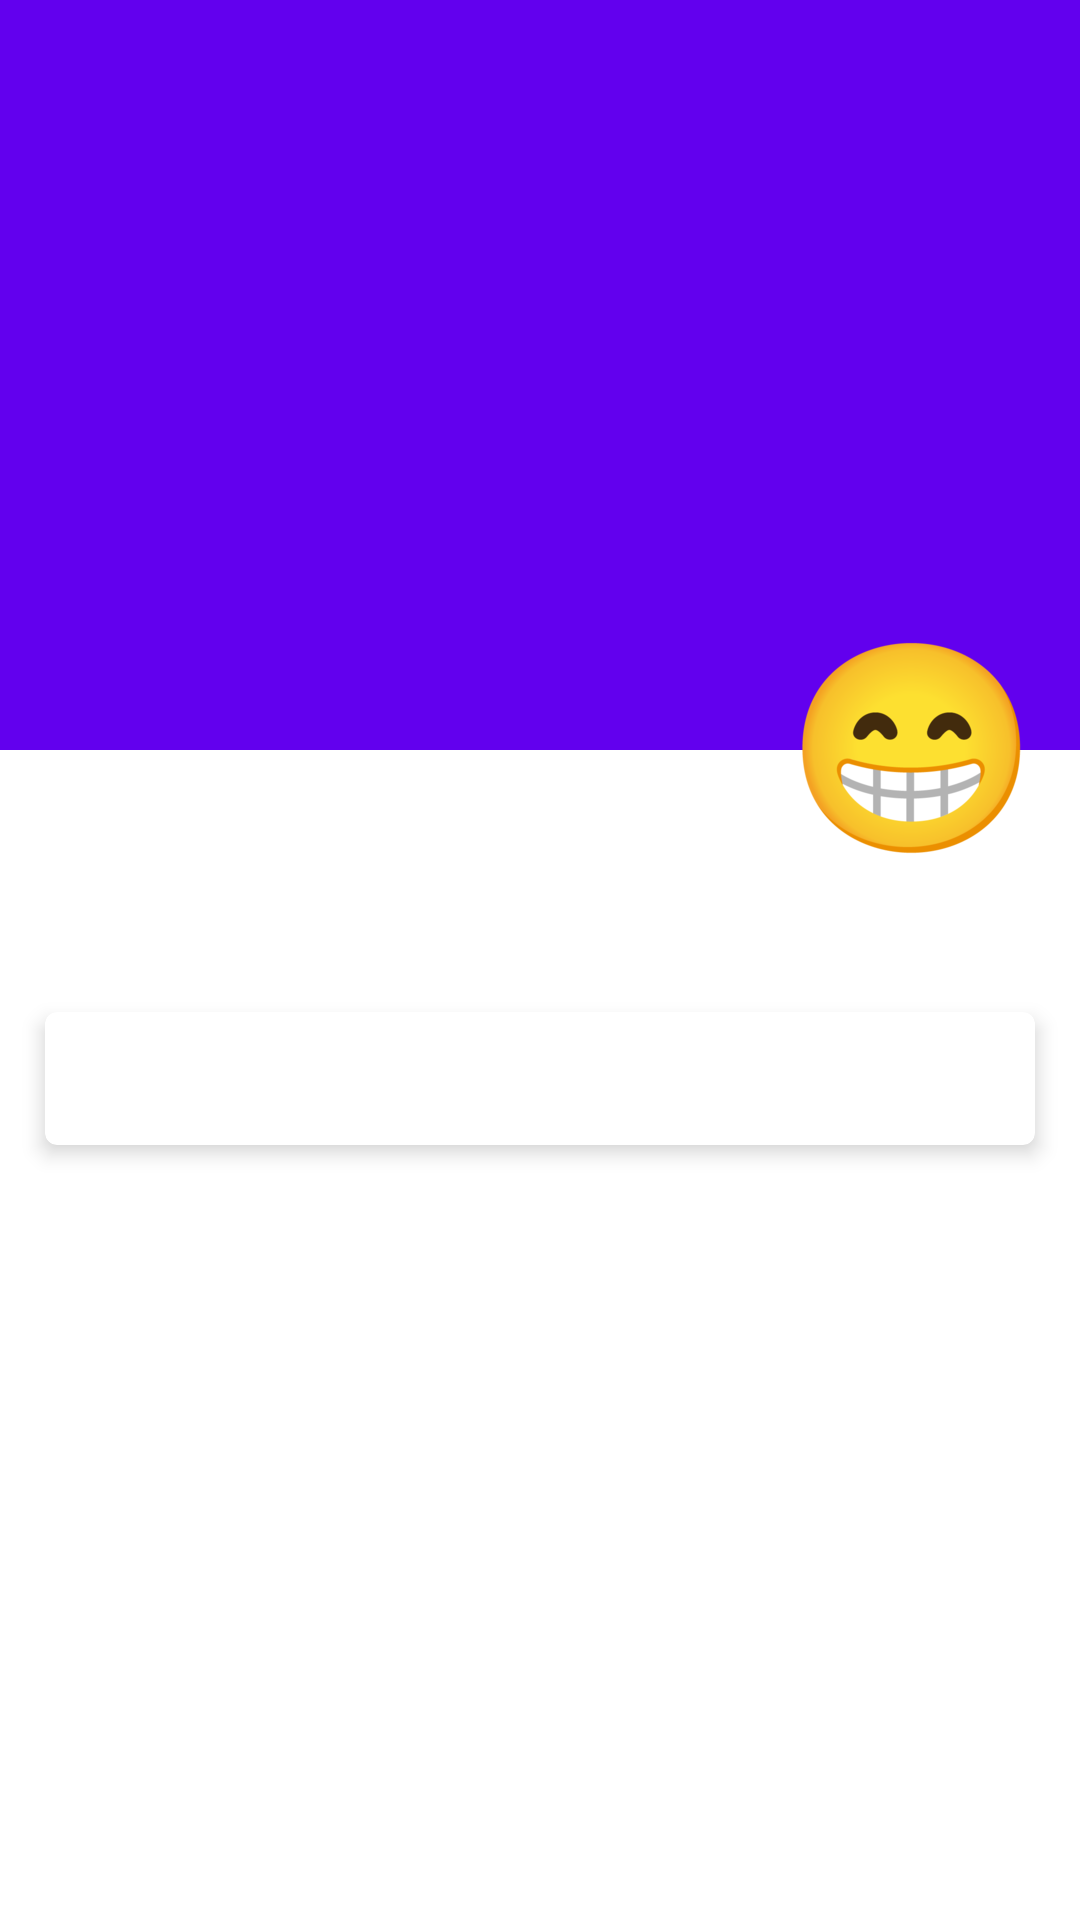

Screen size 1080 × 1920. Icon name, then its center in pixels as (x,y):
emotion: (912,750)
